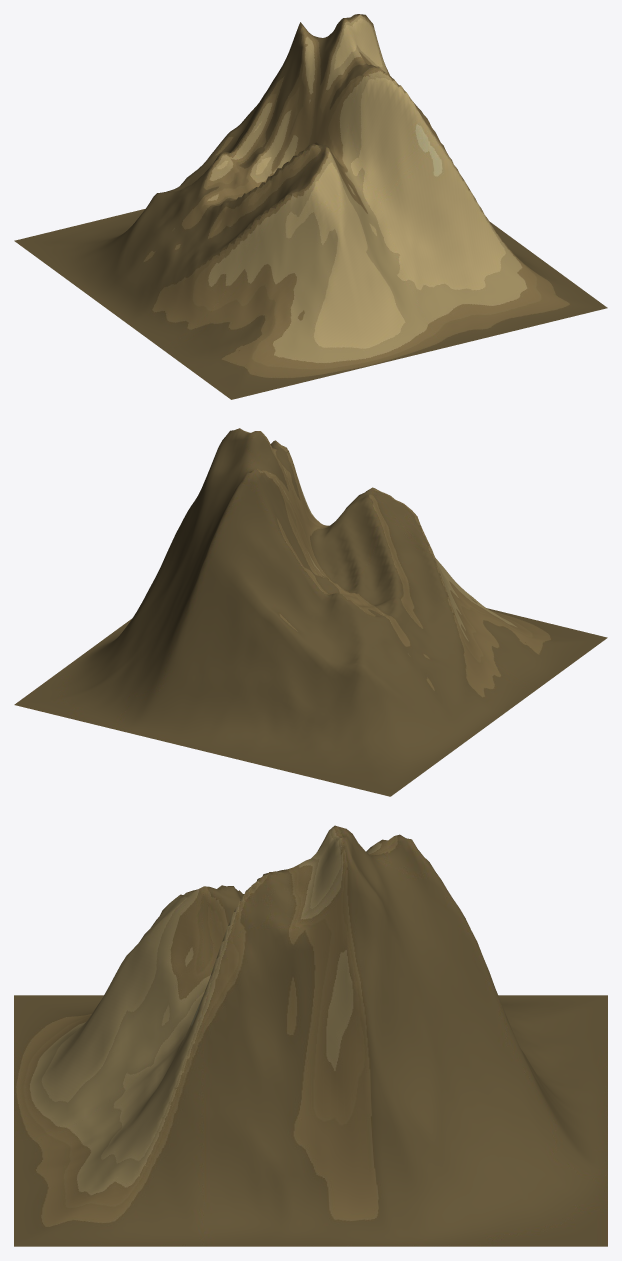
The picture shows the model from 3 angles, top to bottom: view 1: azimuth 30°, elevation 25°; view 2: azimuth 150°, elevation 25°; view 3: azimuth 270°, elevation 25°; orthographic projection. The views are drawn at different scales.
Visible parts, largest first — view 1: Landscape.1; view 2: Landscape.1; view 3: Landscape.1.
Part boxes in pixels (bbox=[...]): Landscape.1: bbox=[14, 14, 607, 399]; Landscape.1: bbox=[14, 428, 607, 796]; Landscape.1: bbox=[14, 825, 607, 1246].
Size of the model in its own units: 1000 by 602 by 1000.
1 material, 1 textured.
